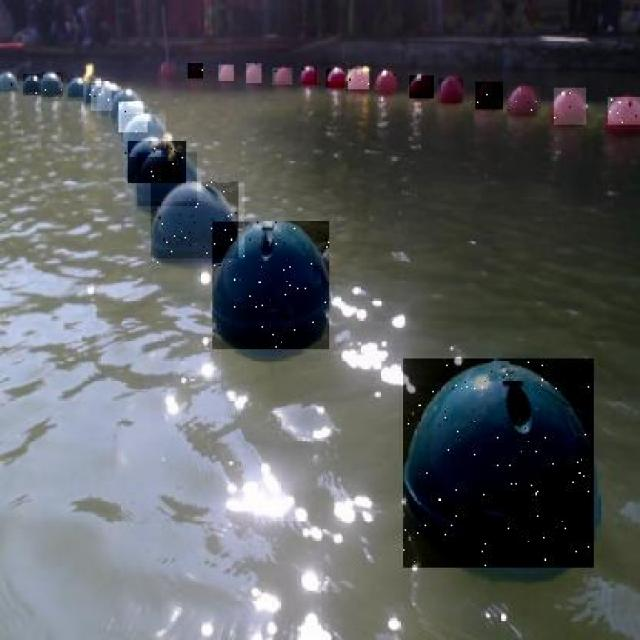green_ball: (405, 360, 596, 566), (211, 221, 330, 350), (150, 180, 237, 254), (137, 155, 198, 206), (130, 138, 186, 180), (121, 115, 166, 147), (119, 102, 148, 133), (114, 92, 140, 126), (92, 87, 120, 112), (43, 70, 65, 97), (90, 78, 110, 103), (22, 76, 42, 96), (68, 77, 86, 97), (0, 72, 17, 90)
red_ball: (555, 88, 585, 125), (508, 83, 540, 115), (606, 96, 640, 124), (436, 75, 465, 104), (409, 73, 435, 99), (477, 85, 500, 109), (374, 69, 396, 94), (346, 68, 370, 88), (328, 65, 345, 89), (301, 65, 317, 87), (272, 68, 292, 84), (246, 64, 262, 83), (219, 66, 234, 81), (189, 62, 203, 76), (160, 63, 173, 76)
